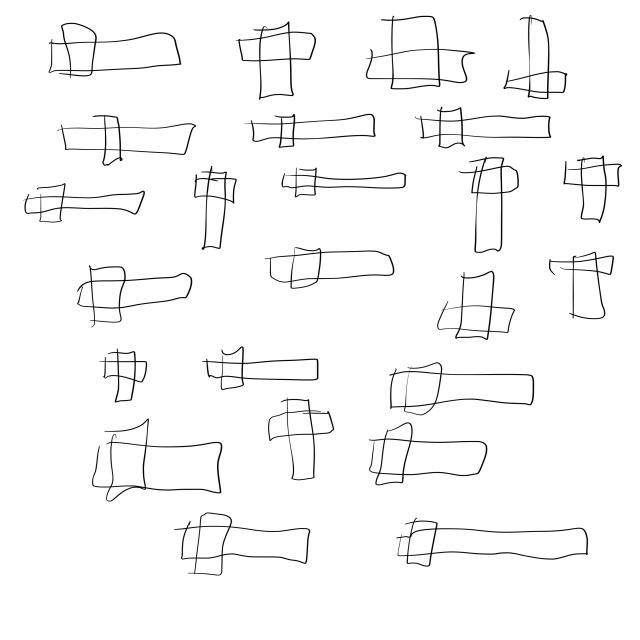Slider: (391, 511, 599, 576), (84, 420, 231, 505), (36, 8, 184, 90), (355, 5, 470, 102), (169, 510, 318, 583), (60, 262, 202, 328), (376, 362, 546, 417), (361, 423, 491, 492), (405, 100, 563, 156), (217, 13, 310, 105), (56, 109, 200, 167), (259, 241, 406, 297), (16, 174, 154, 231), (192, 339, 338, 392), (430, 265, 522, 348), (260, 156, 414, 204), (262, 394, 338, 489), (538, 247, 620, 331), (500, 13, 572, 108), (462, 155, 522, 259), (222, 111, 384, 148), (565, 147, 623, 233), (187, 168, 244, 255), (90, 345, 159, 404)
